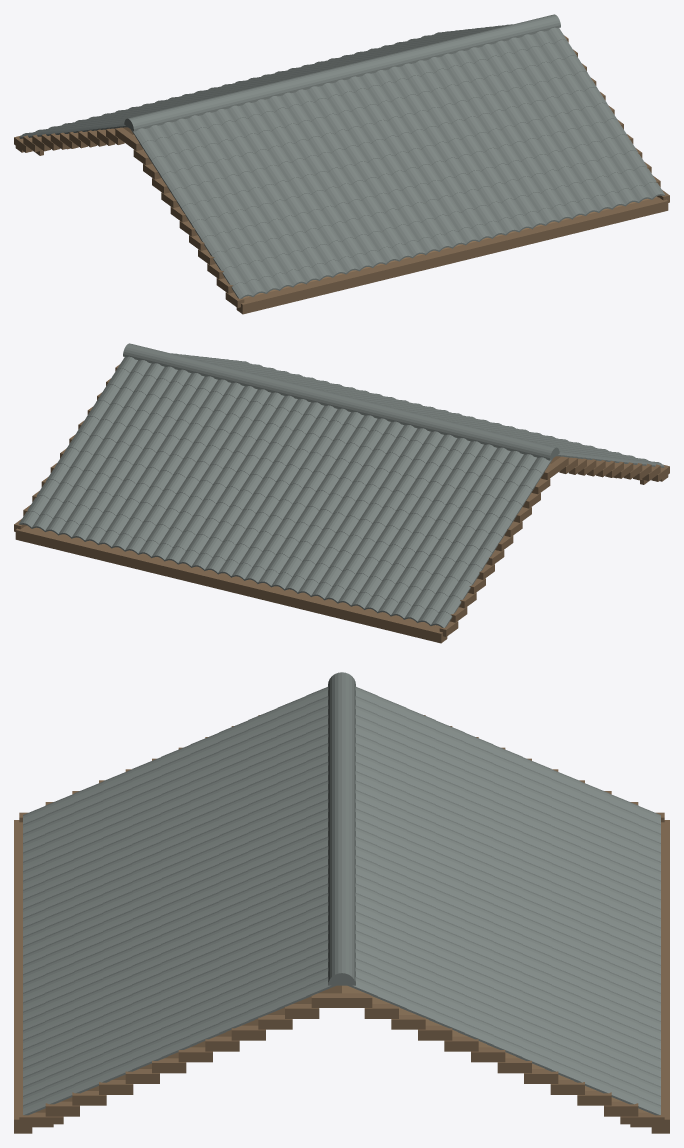
File: hinata_clay_roof.glb
3 views of the same model, one above another, from view 1: azimuth 30°, elevation 25°; view 2: azimuth 150°, elevation 25°; view 3: azimuth 270°, elevation 25° (orthographic). The views are drawn at different scales.
Visible parts, largest first — view 1: OverlappingCurvedClayTiles, EaveBeamsAndSoffit; view 2: OverlappingCurvedClayTiles, EaveBeamsAndSoffit; view 3: OverlappingCurvedClayTiles, EaveBeamsAndSoffit.
Part boxes in pixels (<box>): OverlappingCurvedClayTiles: <box>19,14,664,298</box>; EaveBeamsAndSoffit: <box>14,35,669,314</box>; OverlappingCurvedClayTiles: <box>19,343,664,627</box>; EaveBeamsAndSoffit: <box>14,364,669,643</box>; OverlappingCurvedClayTiles: <box>23,672,660,1115</box>; EaveBeamsAndSoffit: <box>14,715,669,1133</box>.
Size of the model in its own units: 10.28 by 2.55 by 9.36.
